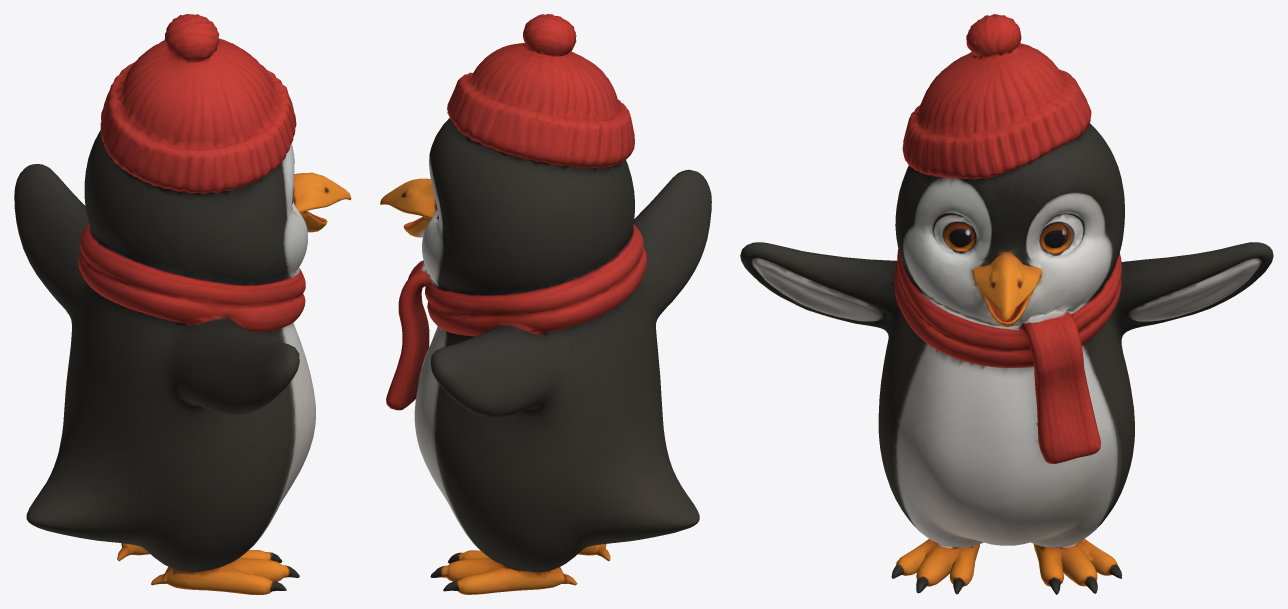
File: penguin_static.glb
3 views of the same model, side by side, from view 1: azimuth 30°, elevation 25°; view 2: azimuth 150°, elevation 25°; view 3: azimuth 270°, elevation 25° (orthographic).
Visible parts, largest first — view 1: tripo_node_0ff54d51-d559-47a6-b6e0-a96e424d9d12; view 2: tripo_node_0ff54d51-d559-47a6-b6e0-a96e424d9d12; view 3: tripo_node_0ff54d51-d559-47a6-b6e0-a96e424d9d12.
Part boxes in pixels (x1,y1,x2,y2): tripo_node_0ff54d51-d559-47a6-b6e0-a96e424d9d12: (14,14,351,594); tripo_node_0ff54d51-d559-47a6-b6e0-a96e424d9d12: (380,14,711,594); tripo_node_0ff54d51-d559-47a6-b6e0-a96e424d9d12: (740,14,1273,594).
Size of the model in its own units: 0.614 by 1 by 0.8886.
1 material, 1 textured.
